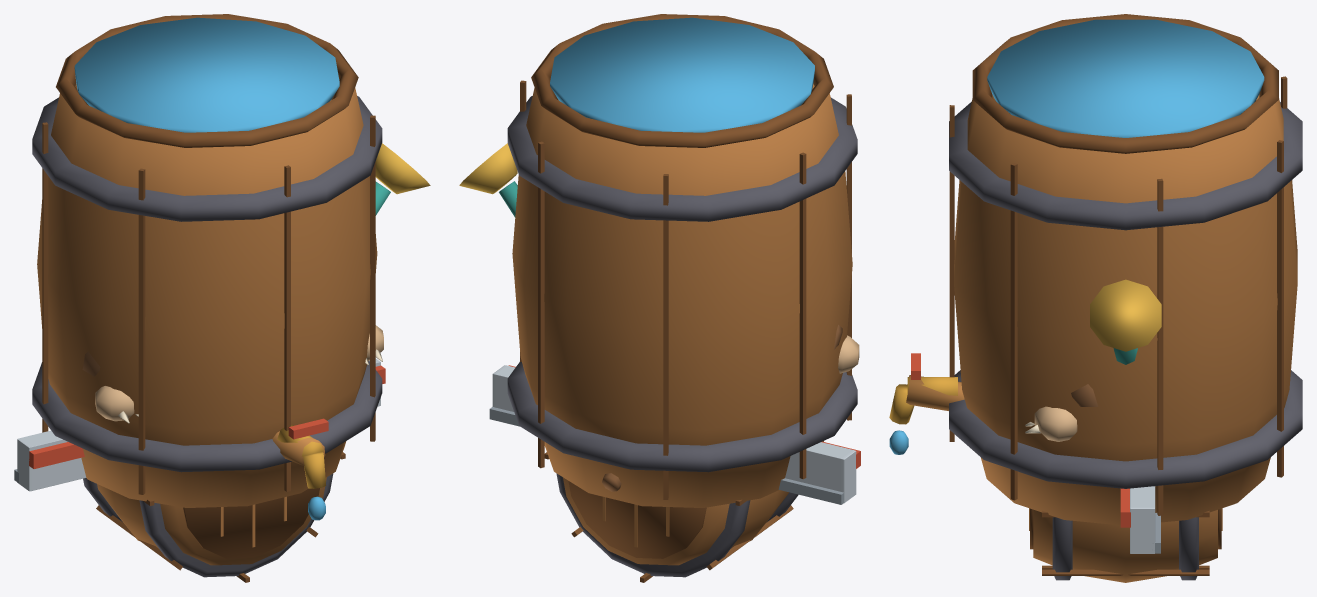
File: root-care-cast.glb
3 views of the same model, side by side, from view 1: azimuth 30°, elevation 25°; view 2: azimuth 150°, elevation 25°; view 3: azimuth 270°, elevation 25° (orthographic). The views are drawn at different scales.
Visible parts, largest first — view 1: CRITTER_rainbarrel_body, CRITTER_rainbarrel, CRITTER_rainbarrel_water, CRITTER_rainbarrel_lip, CRITTER_barrel_lid_front, CRITTER_barrel_body, CRITTER_barrel_hoop_A, CRITTER_hoe_blade, CRITTER_can_rose, CRITTER_hoe_band, CRITTER_barrel, CRITTER_gopher_paw_R (+3 smaller); view 2: CRITTER_rainbarrel_body, CRITTER_rainbarrel, CRITTER_rainbarrel_water, CRITTER_rainbarrel_lip, CRITTER_barrel_lid_back, CRITTER_barrel_body, CRITTER_hoe_blade, CRITTER_barrel_hoop_B, CRITTER_can_rose, CRITTER_hoe_edge, CRITTER_barrel, CRITTER_gopher_paw_R; view 3: CRITTER_rainbarrel_body, CRITTER_rainbarrel, CRITTER_rainbarrel_water, CRITTER_rainbarrel_lip, CRITTER_barrel_body, CRITTER_can_rose, CRITTER_hoe_blade, CRITTER_gopher_paw_L, CRITTER_barrel_hoop_A, CRITTER_barrel, CRITTER_barrel_hoop_B, CRITTER_hoe_handle (+2 smaller).
Boxes of the visible parts, x1,y1,x2,y2 form: CRITTER_rainbarrel_body: (37, 84, 377, 507); CRITTER_rainbarrel: (32, 96, 382, 494); CRITTER_rainbarrel_water: (74, 17, 339, 132); CRITTER_rainbarrel_lip: (56, 14, 358, 147); CRITTER_barrel_lid_front: (183, 488, 319, 558); CRITTER_barrel_body: (97, 477, 326, 565); CRITTER_barrel_hoop_A: (139, 473, 333, 577); CRITTER_hoe_blade: (17, 358, 380, 491); CRITTER_can_rose: (375, 143, 430, 194); CRITTER_hoe_band: (29, 365, 385, 468); CRITTER_barrel: (96, 452, 345, 582); CRITTER_gopher_paw_R: (95, 386, 134, 421); CRITTER_rainbarrel_body: (512, 83, 852, 507); CRITTER_rainbarrel: (507, 80, 857, 499); CRITTER_rainbarrel_water: (550, 17, 814, 132); CRITTER_rainbarrel_lip: (531, 14, 833, 147); CRITTER_barrel_lid_back: (568, 481, 706, 558); CRITTER_barrel_body: (563, 477, 788, 565); CRITTER_hoe_blade: (492, 365, 856, 503); CRITTER_barrel_hoop_B: (556, 473, 750, 577); CRITTER_can_rose: (459, 143, 517, 194); CRITTER_hoe_edge: (489, 407, 844, 504); CRITTER_barrel: (544, 452, 793, 582); CRITTER_gopher_paw_R: (838, 335, 859, 373); CRITTER_rainbarrel_body: (954, 95, 1297, 525); CRITTER_rainbarrel: (949, 76, 1302, 515); CRITTER_rainbarrel_water: (987, 19, 1264, 137); CRITTER_rainbarrel_lip: (972, 14, 1278, 153); CRITTER_barrel_body: (1033, 509, 1217, 582); CRITTER_can_rose: (1090, 279, 1161, 351); CRITTER_hoe_blade: (1130, 486, 1155, 553); CRITTER_gopher_paw_L: (1034, 406, 1077, 441); CRITTER_barrel_hoop_A: (1052, 517, 1072, 580); CRITTER_barrel: (1029, 508, 1222, 575); CRITTER_barrel_hoop_B: (1179, 517, 1198, 580); CRITTER_hoe_handle: (906, 375, 964, 410).
Size of the model in its own units: 0.5581 by 0.652 by 0.4922.
